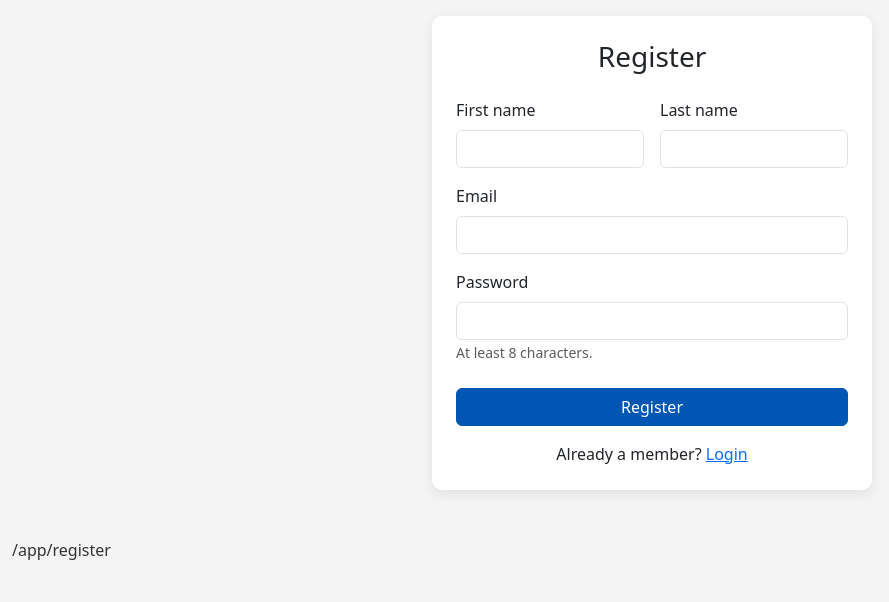
Scenario: <RegisterPage /> › requires a password of at least 8 characters
Type "Ana" into the field labelled "First name".
click(550, 149); type("Ana")  # box [456,130,644,168]
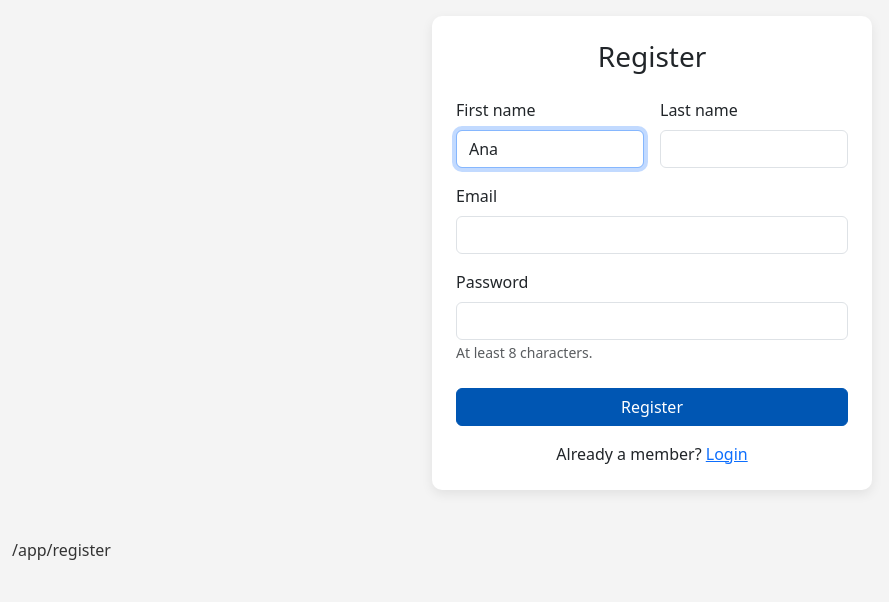
Type "Lee" into the field labelled "Last name".
click(754, 149); type("Lee")  # box [660,130,848,168]
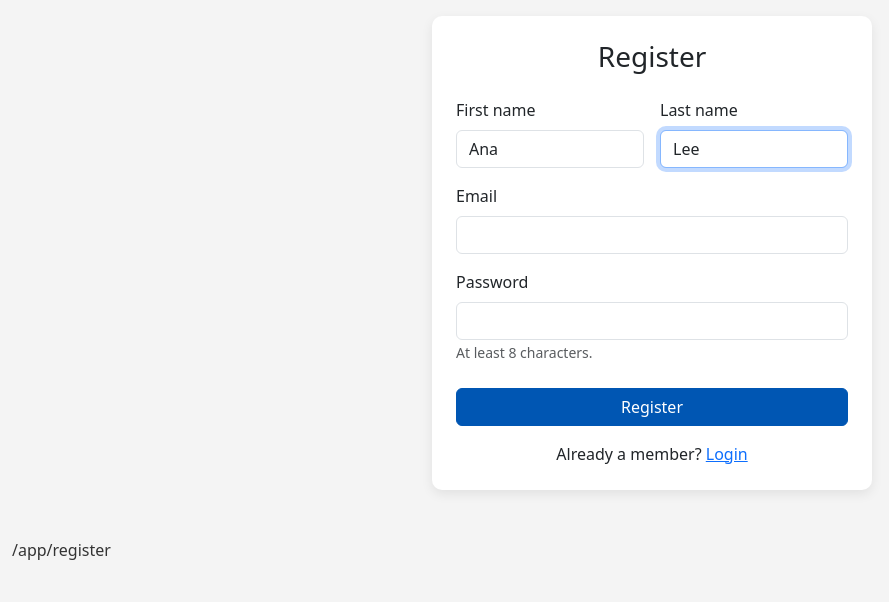
Type "ana@example.com" into the field labelled "Email".
click(652, 235); type("ana@example.com")  # box [456,216,848,254]
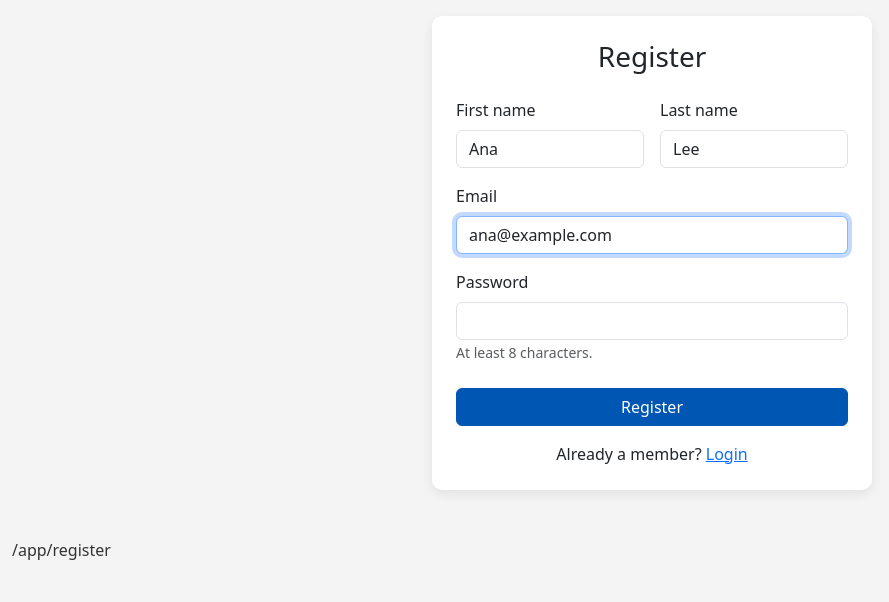
Type "short" into the password field labelled "Password".
click(652, 321); type("short")  # box [456,302,848,340]
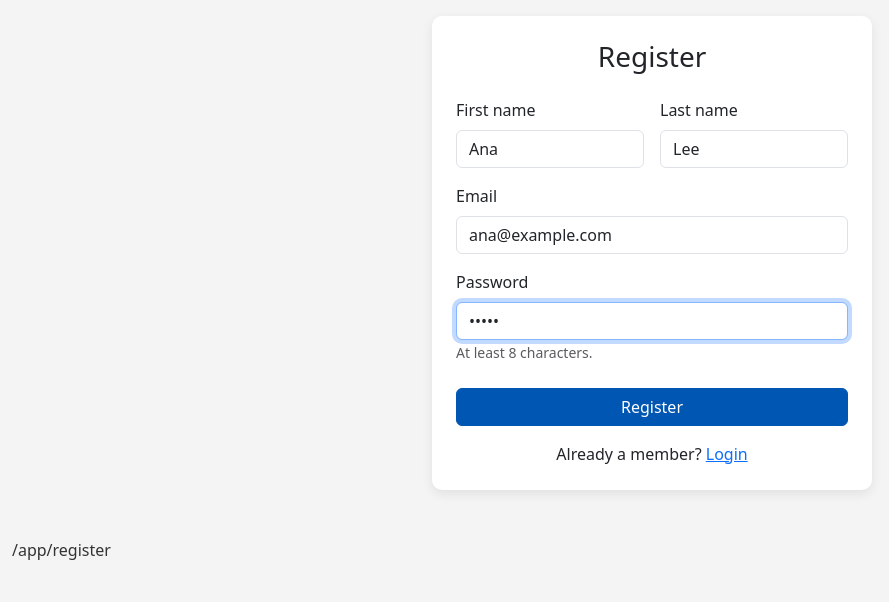
Click the button "Register".
click(652, 407)  # box [456,388,848,426]
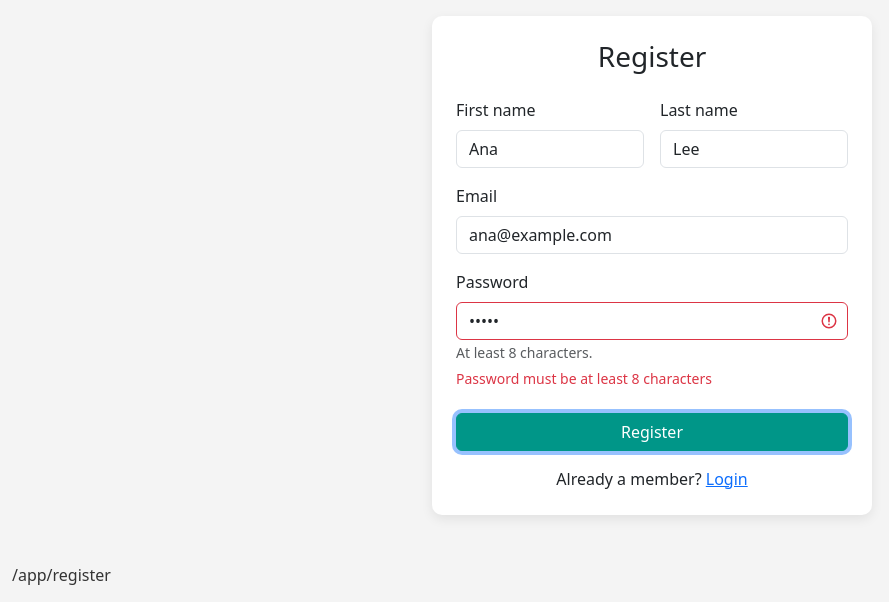
Check: the text "Password must be at least 8 characters" is shown, box [456,369,712,388]
